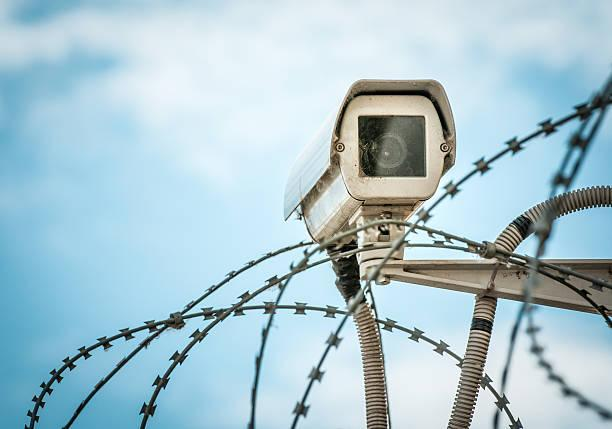camera: (253, 49, 482, 274)
